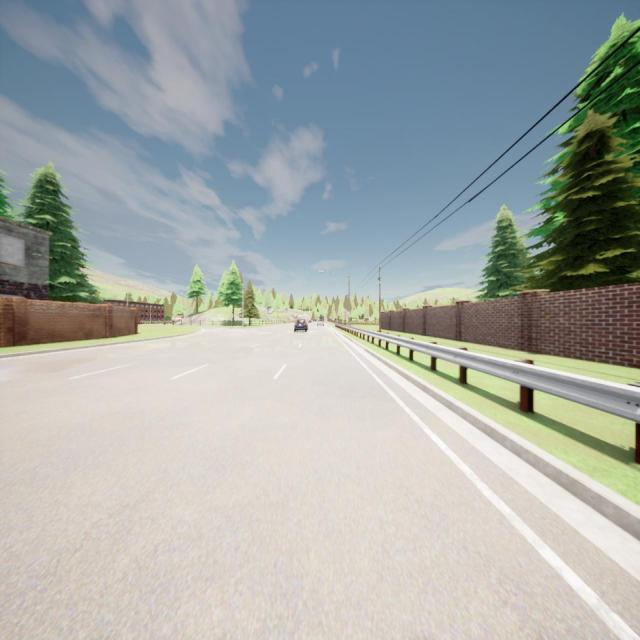Vehicle: (294, 318, 308, 332), (317, 319, 324, 328), (308, 320, 312, 323)
